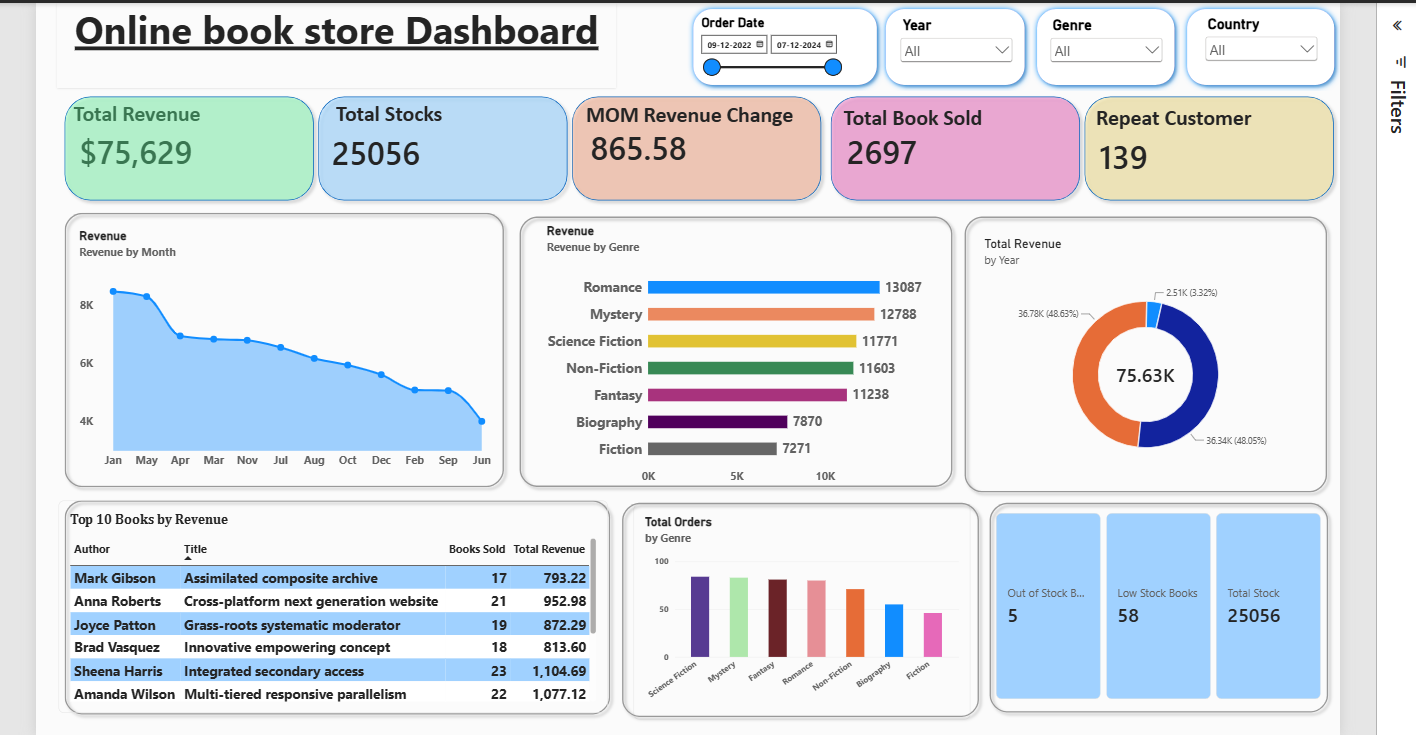

This screenshot's page, from the dashboard's own definition file:
{"tool":"powerbi","page":{"name":"Page 2","canvas":[1920,1080],"ordinal":0},"visuals":[{"type":"shape","box":[959.2,0,288.2,129.7],"z":0},{"type":"shape","box":[32.9,300.5,664.8,422],"z":1000},{"type":"slicer","fields":{"Values":["DateTable.Date"]},"box":[971.5,18.5,218.2,146.1],"z":2000},{"type":"shape","box":[1243.2,0,222.3,129.7],"z":3000},{"type":"shape","box":[1465.5,0,220.2,129.7],"z":4000},{"type":"shape","box":[1685.8,0,234.6,129.7],"z":5000},{"type":"slicer","fields":{"Values":["DateTable.Year"]},"box":[1267.9,20.6,175,94.7],"z":6000},{"type":"slicer","fields":{"Values":["Books.Genre"]},"box":[1488.2,20.6,175,94.7],"z":7000},{"type":"slicer","fields":{"Values":["Customers.Country"]},"box":[1716.6,18.5,175,96.7],"z":8000},{"type":"shape","box":[407.5,129.7,384.9,170.8],"z":9000},{"type":"shape","box":[1535.5,129.7,384.9,170.8],"z":10000},{"type":"shape","box":[1160.9,129.7,384.9,170.8],"z":11000},{"type":"shape","box":[780.1,129.7,384.9,170.8],"z":12000},{"type":"textbox","box":[55.6,144.1,253.2,51.5],"z":13000},{"type":"textbox","box":[442.5,144.1,220.2,41.2],"z":14000},{"type":"textbox","box":[1560.2,148.2,253.2,51.5],"z":15000},{"type":"textbox","box":[1189.7,148.2,253.2,51.5],"z":16000},{"type":"textbox","box":[808.9,146.1,323.2,70],"z":17000},{"type":"cardVisual","fields":{"Data":["Orders.Total Revenue"]},"box":[47.3,137.9,360.2,158.5],"z":18000},{"type":"cardVisual","fields":{"Data":["DateTable.MoM Revenue Change"]},"box":[800.7,131.7,360.2,158.5],"z":19000},{"type":"cardVisual","fields":{"Data":["Books.Total Stock"]},"box":[419.9,148.2,317,140],"z":20000},{"type":"cardVisual","fields":{"Data":["Orders.Books Sold"]},"box":[1177.4,137.9,360.2,158.5],"z":21000},{"type":"cardVisual","fields":{"Data":["Customers.Repeat Customers"]},"box":[1549.9,146.1,360.2,158.5],"z":22000},{"type":"stackedAreaChart","title":" Revenue","fields":{"Category":["DateTable.Month"],"Y":["Orders.Total Revenue"]},"box":[47.3,319,644.3,387],"z":23000},{"type":"clusteredBarChart","title":"Revenue","fields":{"Category":["Books.Genre"],"Y":["Orders.Total Revenue"]},"box":[736.2,311,599,417.8],"z":24000},{"type":"shape","box":[32.6,129.4,384.9,170.8],"z":25000},{"type":"shape","box":[32.9,722.5,821.3,333.4],"z":27000},{"type":"tableEx","title":"Top 10 Books  by Revenue","fields":{"Values":["Books.Author","Books.Title","Orders.Books Sold","Orders.Total Revenue"]},"box":[32.9,732.8,808.9,312.9],"z":28000},{"type":"shape","box":[1358.5,304.6,551.6,424],"z":29000},{"type":"donutChart","fields":{"Category":["DateTable.Date.Variation.Date Hierarchy.Year","DateTable.Date.Variation.Date Hierarchy.Quarter","DateTable.Date.Variation.Date Hierarchy.Month","DateTable.Date.Variation.Date Hierarchy.Day"],"Y":["Orders.Total Revenue"]},"box":[1381.1,329.3,506.3,376.7],"z":30000},{"type":"clusteredColumnChart","fields":{"Category":["Books.Genre"],"Y":["Orders.Total Orders"]},"box":[878.9,738.9,496.1,317],"z":30001},{"type":"shape","box":[853.3,726.2,543.4,333.4],"z":30002},{"type":"cardVisual","fields":{"Data":["Books.Out of Stock Books","Books.Low Stock Books","Books.Total Stock"]},"box":[1414.1,750.4,478.1,274.3],"z":30003},{"type":"shape","box":[1395.9,726.2,516.4,326.8],"z":30004},{"type":"shape","box":[703.1,305.5,655.2,416],"z":30005},{"type":"textbox","box":[31.3,0,822.7,125.2],"z":30006}]}

Visuals, with their boxes on the page's 1920x1080 design canvas (x1, y1, x2, y2). These are canvas units, not pixel positions in the 1416x735 screenshot, which may show the page scaled, cropped or inside an application window:
shape: rect(959, 0, 1247, 130)
shape: rect(33, 300, 698, 722)
slicer - DateTable.Date: rect(972, 18, 1190, 165)
shape: rect(1243, 0, 1466, 130)
shape: rect(1466, 0, 1686, 130)
shape: rect(1686, 0, 1920, 130)
slicer - DateTable.Year: rect(1268, 21, 1443, 115)
slicer - Books.Genre: rect(1488, 21, 1663, 115)
slicer - Customers.Country: rect(1717, 18, 1892, 115)
shape: rect(408, 130, 792, 300)
shape: rect(1536, 130, 1920, 300)
shape: rect(1161, 130, 1546, 300)
shape: rect(780, 130, 1165, 300)
textbox: rect(56, 144, 309, 196)
textbox: rect(442, 144, 663, 185)
textbox: rect(1560, 148, 1813, 200)
textbox: rect(1190, 148, 1443, 200)
textbox: rect(809, 146, 1132, 216)
cardVisual - Orders.Total Revenue: rect(47, 138, 408, 296)
cardVisual - DateTable.MoM Revenue Change: rect(801, 132, 1161, 290)
cardVisual - Books.Total Stock: rect(420, 148, 737, 288)
cardVisual - Orders.Books Sold: rect(1177, 138, 1538, 296)
cardVisual - Customers.Repeat Customers: rect(1550, 146, 1910, 305)
" Revenue" stackedAreaChart: rect(47, 319, 692, 706)
"Revenue" clusteredBarChart: rect(736, 311, 1335, 729)
shape: rect(33, 129, 418, 300)
shape: rect(33, 722, 854, 1056)
"Top 10 Books  by Revenue" tableEx: rect(33, 733, 842, 1046)
shape: rect(1358, 305, 1910, 729)
donutChart - DateTable.Date.Variation.Date Hierarchy.Year x DateTable.Date.Variation.Date Hierarchy.Quarter: rect(1381, 329, 1887, 706)
clusteredColumnChart - Books.Genre x Orders.Total Orders: rect(879, 739, 1375, 1056)
shape: rect(853, 726, 1397, 1060)
cardVisual - Books.Out of Stock Books x Books.Low Stock Books: rect(1414, 750, 1892, 1025)
shape: rect(1396, 726, 1912, 1053)
shape: rect(703, 306, 1358, 722)
textbox: rect(31, 0, 854, 125)
